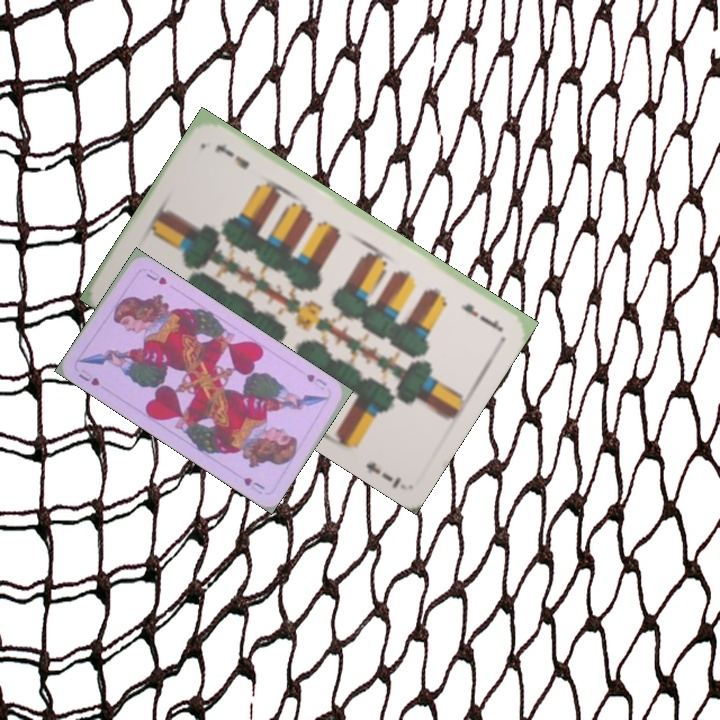E7: (456, 299, 504, 333)
HU: (74, 365, 102, 389), (302, 370, 330, 388)
